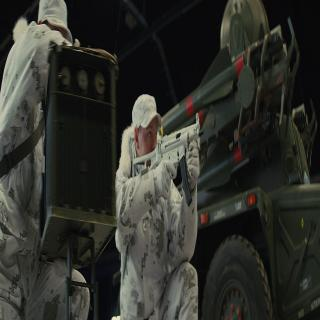gun: (130, 109, 205, 207)
